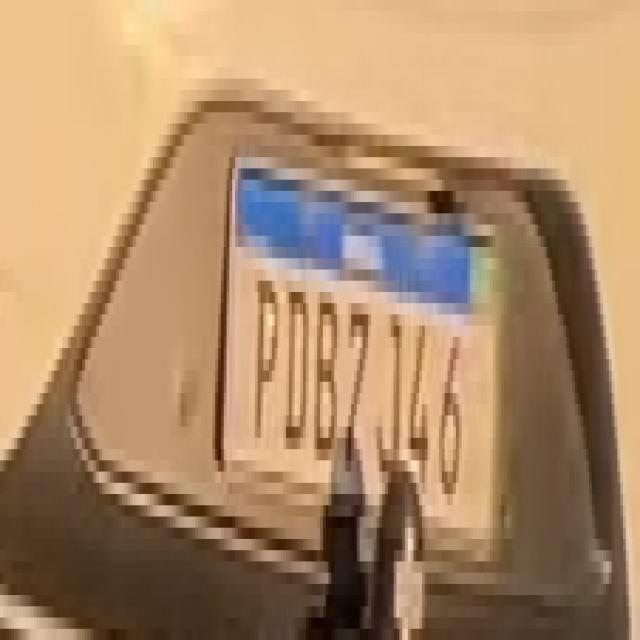Placa_mercosul_carro: (219, 141, 501, 548)
